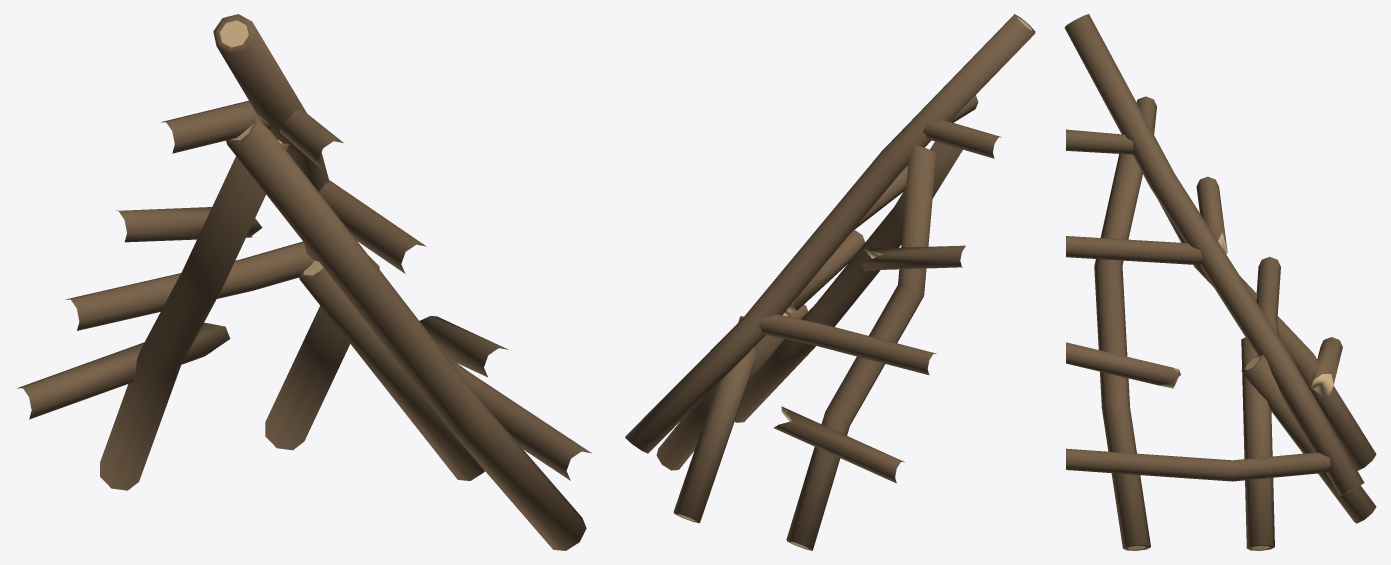
File: rpgpp_av_roof_support_01_6x5x3_corner_02a.gltf
3 renders of one model, left to right at view 1: azimuth 30°, elevation 25°; view 2: azimuth 150°, elevation 25°; view 3: azimuth 270°, elevation 25°, orthographic. The views are drawn at different scales.
Parts seen in each view (by area): view 1: rpgpp_av_roof_support_01_6x5x3_corner_02a; view 2: rpgpp_av_roof_support_01_6x5x3_corner_02a; view 3: rpgpp_av_roof_support_01_6x5x3_corner_02a.
Boxes of the visible parts, x1,y1,x2,y2 form: rpgpp_av_roof_support_01_6x5x3_corner_02a: (17, 14, 591, 550); rpgpp_av_roof_support_01_6x5x3_corner_02a: (625, 14, 1035, 550); rpgpp_av_roof_support_01_6x5x3_corner_02a: (1064, 14, 1376, 550).
Size of the model in its own units: 0.0348 by 0.0528 by 0.0353.
Materials: 1 (1 with a texture image).
